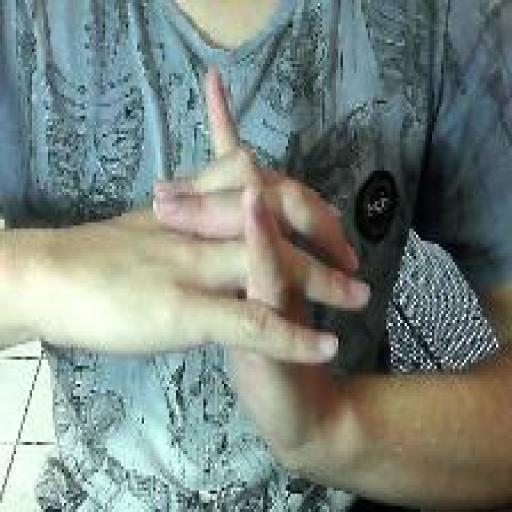Ushi -ox-: (150, 66, 374, 483)
